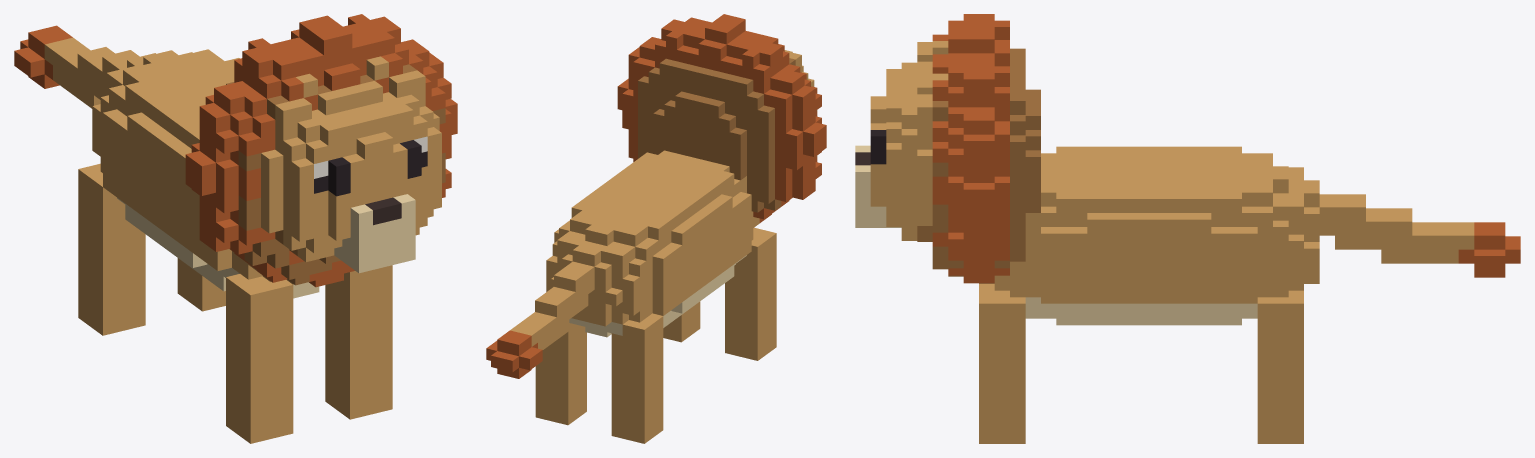
The model's file is lion.glb.
3 renders of one model, left to right at view 1: azimuth 30°, elevation 25°; view 2: azimuth 150°, elevation 25°; view 3: azimuth 270°, elevation 25°, orthographic. The views are drawn at different scales.
Parts seen in each view (by area): view 1: lion__head, lion__body, lion__leg_fr, lion__leg_fl, lion__leg_br, lion__tail, lion__leg_bl; view 2: lion__head, lion__body, lion__leg_br, lion__tail, lion__leg_fr, lion__leg_bl, lion__leg_fl; view 3: lion__body, lion__head, lion__tail, lion__leg_fl, lion__leg_bl.
Boxes of the visible parts, x1,y1,x2,y2 form: lion__head: (185, 14, 457, 287); lion__body: (92, 49, 319, 298); lion__leg_fr: (226, 274, 293, 443); lion__leg_fl: (325, 265, 392, 419); lion__leg_br: (78, 163, 145, 335); lion__tail: (14, 25, 155, 108); lion__leg_bl: (177, 258, 225, 311); lion__head: (617, 14, 826, 222); lion__body: (546, 150, 759, 337); lion__leg_br: (611, 313, 663, 443); lion__tail: (486, 241, 606, 378); lion__leg_fr: (725, 227, 776, 360); lion__leg_bl: (535, 323, 586, 425); lion__leg_fl: (663, 301, 700, 342); lion__body: (979, 146, 1319, 325); lion__head: (855, 14, 1040, 283); lion__tail: (1288, 180, 1520, 277); lion__leg_fl: (979, 284, 1025, 443); lion__leg_bl: (1257, 290, 1303, 443).
Size of the model in its own units: 1.8 by 2.7 by 4.3.
1 material, 1 textured.
